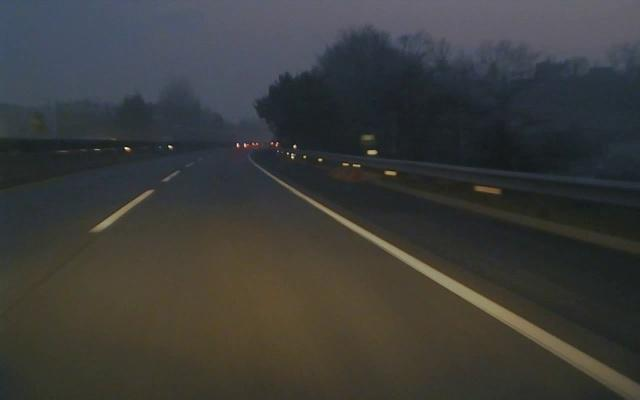lane: (261, 170, 640, 400), (85, 172, 179, 233)
